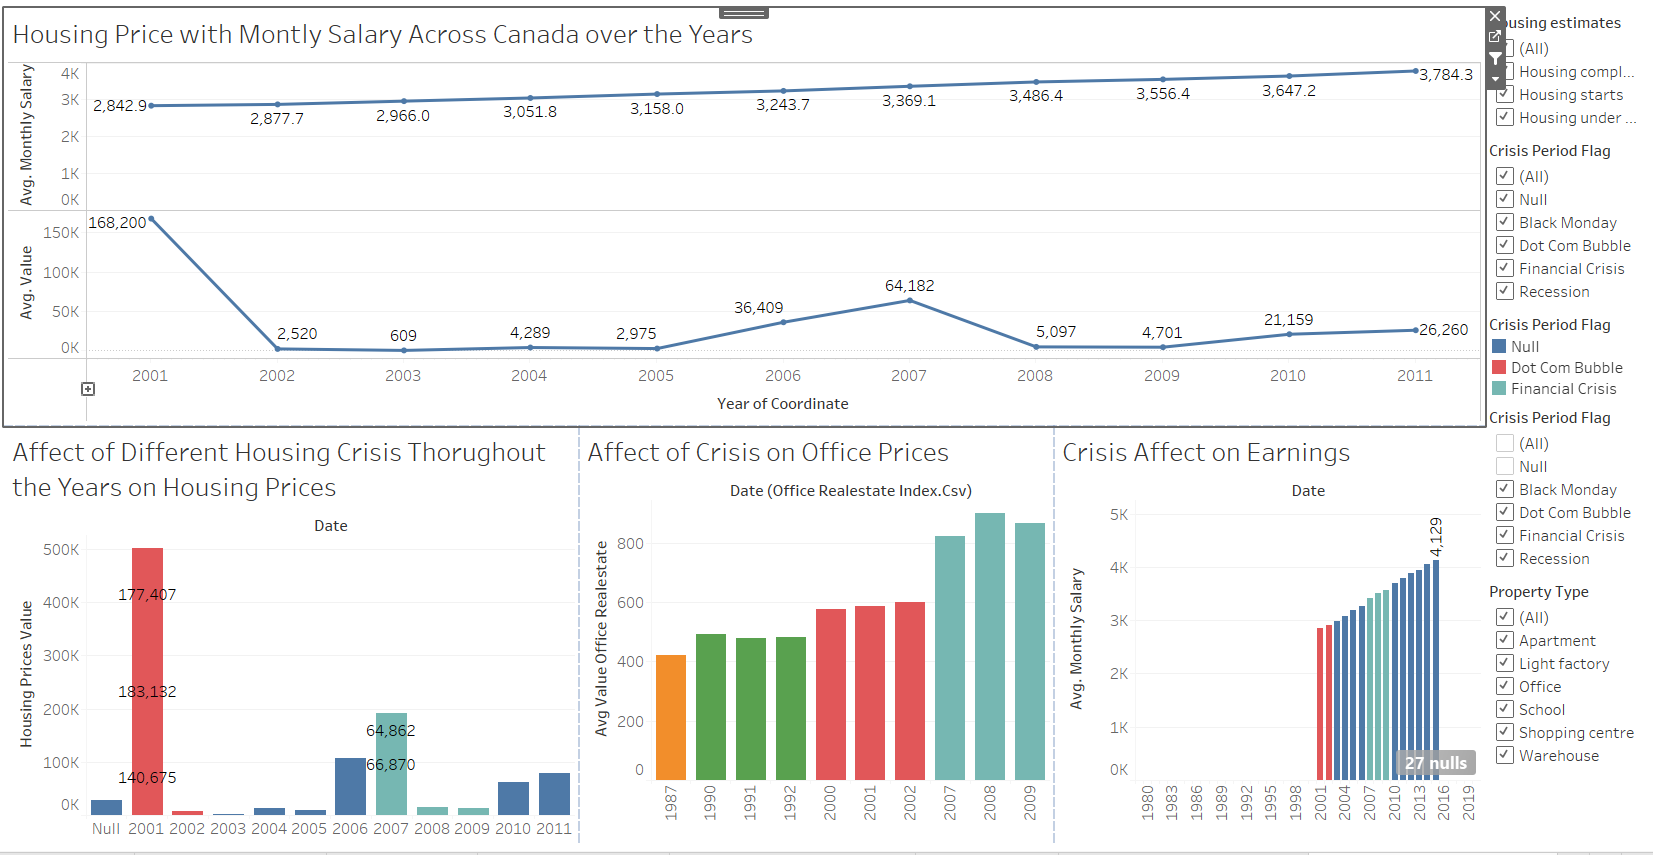

This screenshot's page, from the dashboard's own definition file:
{"tool":"tableau","page":{"name":"Housing Prices and Crisis over the yers","canvas":[1000,1000],"units":"permille","ordinal":0},"visuals":[{"type":"worksheet","title":"Comparing Salary with Housing Price","mark":"Automatic","rows":["Calculation_1562186128435773440","VALUE"],"cols":["COORDINATE"],"box":[4.8,9.4,893.8,490.6]},{"type":"filter","title":"Crisis Affect on Housing ","param":"[federated.08chpt90nf05791bn5wyl0yhtumh].[none:Housing estimates:nk]","box":[898.6,9.4,96.6,150.4]},{"type":"filter","title":"Crisis Affect on Housing ","param":"[federated.08chpt90nf05791bn5wyl0yhtumh].[none:Calculation_1876030727805669379:n","box":[898.6,159.8,96.6,204.5]},{"type":"legend","title":"Crisis Affect on Housing ","param":"[federated.08chpt90nf05791bn5wyl0yhtumh].[none:Calculation_1876030727805669379:n","box":[898.6,364.3,96.6,109.3]},{"type":"filter","title":"Crisis Affect Office","param":"[federated.08chpt90nf05791bn5wyl0yhtumh].[none:Calculation_1876030727805669379:n","box":[898.6,473.6,96.6,204.5]},{"type":"worksheet","title":"Crisis Affect on Housing ","mark":"Bar","rows":["VALUE"],"cols":["date"],"box":[4.8,500,347,490.6]},{"type":"worksheet","title":"Crisis Affect Office","mark":"Bar","rows":["index_value (office_realestate_index.csv)"],"cols":["date (office_realestate_index.csv)"],"box":[351.8,500,286.7,490.6]},{"type":"worksheet","title":"Crisis Affect on Earnings","mark":"Bar","rows":["Calculation_1562186128435773440"],"cols":["date"],"box":[638.5,500,260.1,490.6]},{"type":"filter","title":"Crisis Affect Office","param":"[federated.08chpt90nf05791bn5wyl0yhtumh].[none:property_type:nk]","box":[898.6,678,96.6,231.5]}]}

Visuals, with their boxes on the dashboard's canvas, which has no fixed pixel size, in thousandths of its width and height (x1, y1, x2, y2). These are canvas units, not pixel positions in the 1653x855 screenshot, which may show the page scaled, cropped or inside an application window:
"Comparing Salary with Housing Price" worksheet: (x1=5, y1=9, x2=899, y2=500)
"Crisis Affect on Housing " filter: (x1=899, y1=9, x2=995, y2=160)
"Crisis Affect on Housing " filter: (x1=899, y1=160, x2=995, y2=364)
"Crisis Affect on Housing " legend: (x1=899, y1=364, x2=995, y2=474)
"Crisis Affect Office" filter: (x1=899, y1=474, x2=995, y2=678)
"Crisis Affect on Housing " worksheet (Bar marks): (x1=5, y1=500, x2=352, y2=991)
"Crisis Affect Office" worksheet (Bar marks): (x1=352, y1=500, x2=638, y2=991)
"Crisis Affect on Earnings" worksheet (Bar marks): (x1=638, y1=500, x2=899, y2=991)
"Crisis Affect Office" filter: (x1=899, y1=678, x2=995, y2=910)
